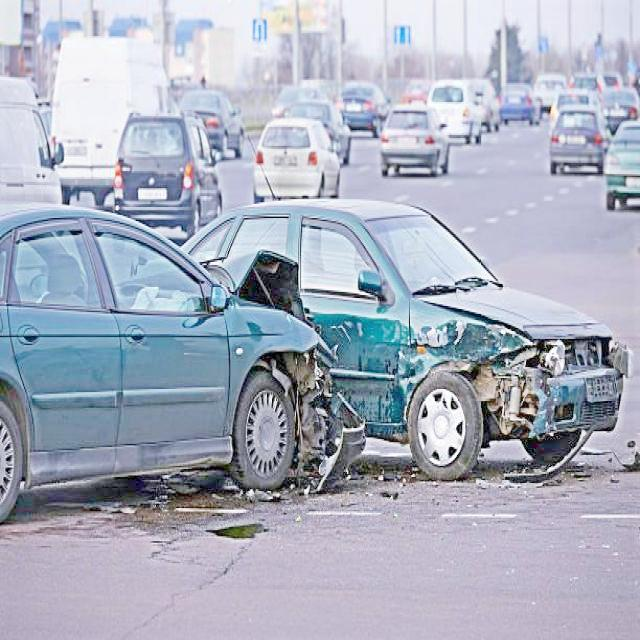Car: (177, 178, 637, 463), (3, 198, 366, 503), (48, 32, 176, 198), (112, 114, 222, 217), (252, 124, 344, 202), (382, 99, 448, 170), (552, 101, 608, 171), (605, 123, 640, 204), (430, 84, 476, 138), (338, 84, 386, 126), (496, 84, 538, 128)
Minor Accident: (1, 179, 635, 503)
Not Accident: (48, 32, 244, 230), (382, 76, 541, 180), (252, 88, 350, 202), (546, 77, 614, 176)
